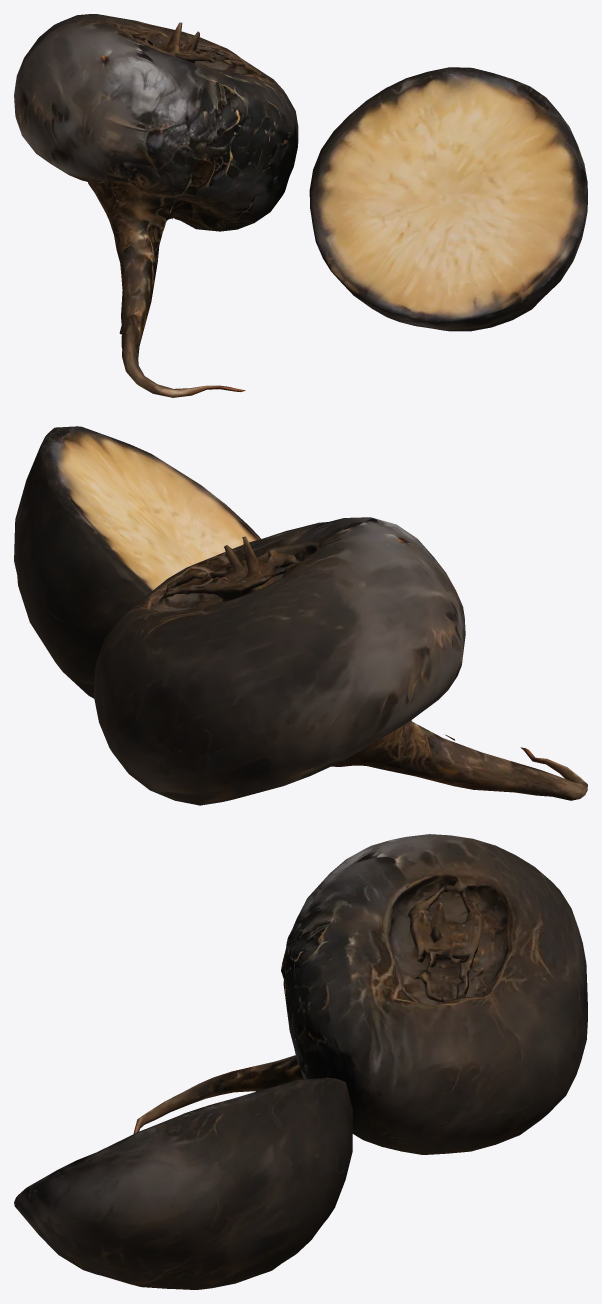
Rendered from black-maca-optimized.glb.
The picture shows the model from 3 angles, top to bottom: view 1: azimuth 30°, elevation 25°; view 2: azimuth 150°, elevation 25°; view 3: azimuth 270°, elevation 25°; orthographic projection. The views are drawn at different scales.
Parts seen in each view (by area): view 1: model; view 2: model; view 3: model.
Boxes of the visible parts, <box> form: model: <box>14,14,587,397</box>; model: <box>14,426,587,805</box>; model: <box>14,834,587,1289</box>.
Bounding box in the file's own units: 1.85 × 1.1 × 1.86.
1 material, 1 textured.
